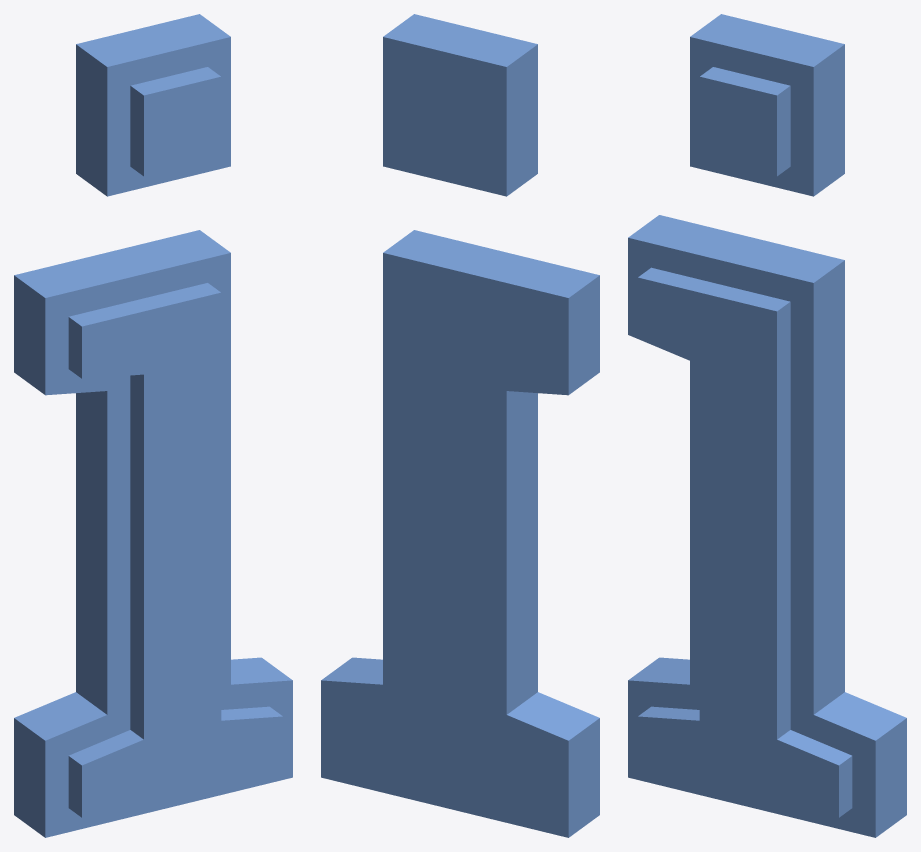
File: uploads_files_2164687_I2.FBX
The picture shows the model from 3 angles, left to right: view 1: azimuth 30°, elevation 25°; view 2: azimuth 150°, elevation 25°; view 3: azimuth 330°, elevation 25°; orthographic projection.
Visible parts, largest first — view 1: i; view 2: i; view 3: i.
Boxes of the visible parts, x1,y1,x2,y2 form: i: (14,14,292,837); i: (321,14,599,837); i: (628,14,906,837).
Bounding box in the file's own units: 1.6 × 4.67 × 0.5.
